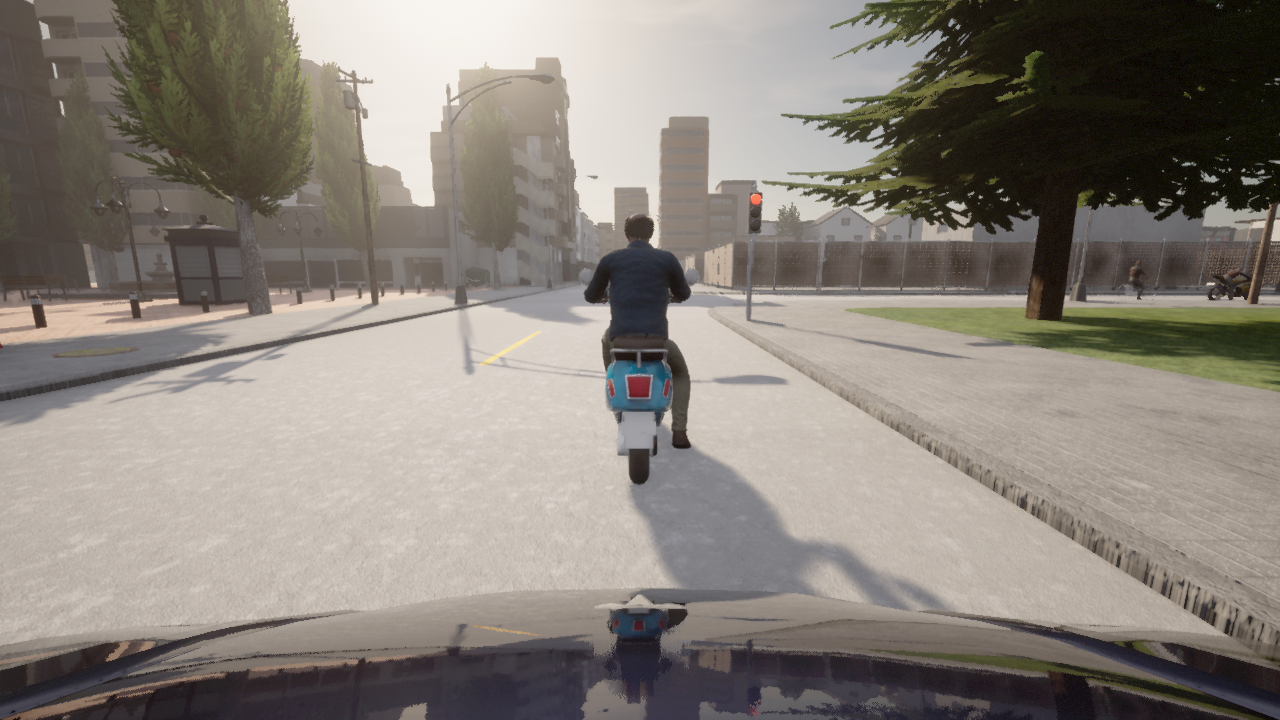cyclist: (0, 588, 1279, 719), (579, 269, 698, 483), (1205, 273, 1252, 299), (1118, 276, 1157, 299), (813, 271, 824, 276), (861, 268, 870, 273), (789, 275, 793, 276), (796, 275, 799, 276)
pedestrian: (1140, 276, 1151, 283)
